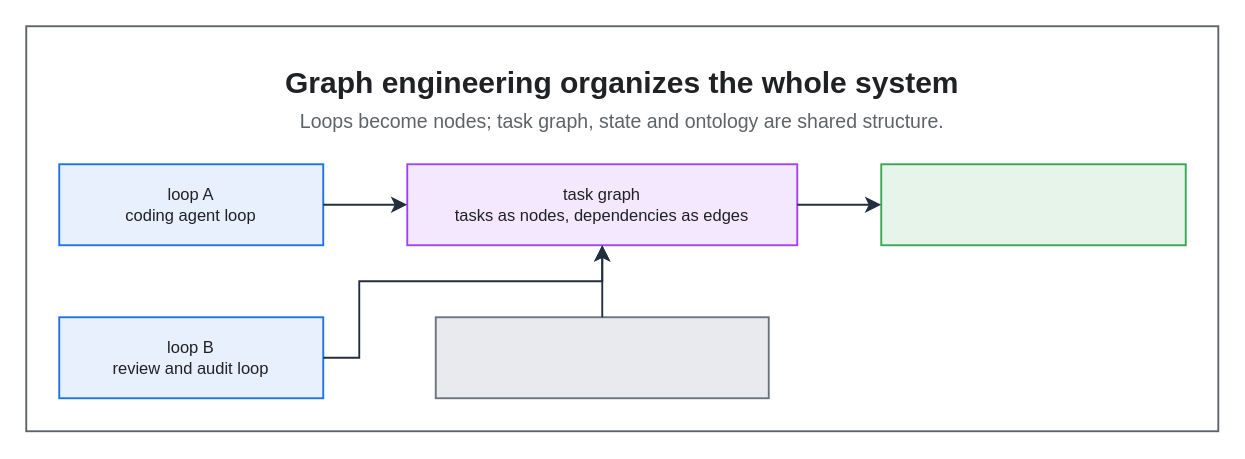
The diagram is 1245 pixels wide and 459 high, and some of its shapes have lost their labels. Each missing label, with the centre of its shape:
"ontology shared vocabulary and relations" belongs at (x=601, y=357).
"shared state who did what, where it lives" belongs at (x=1033, y=204).
